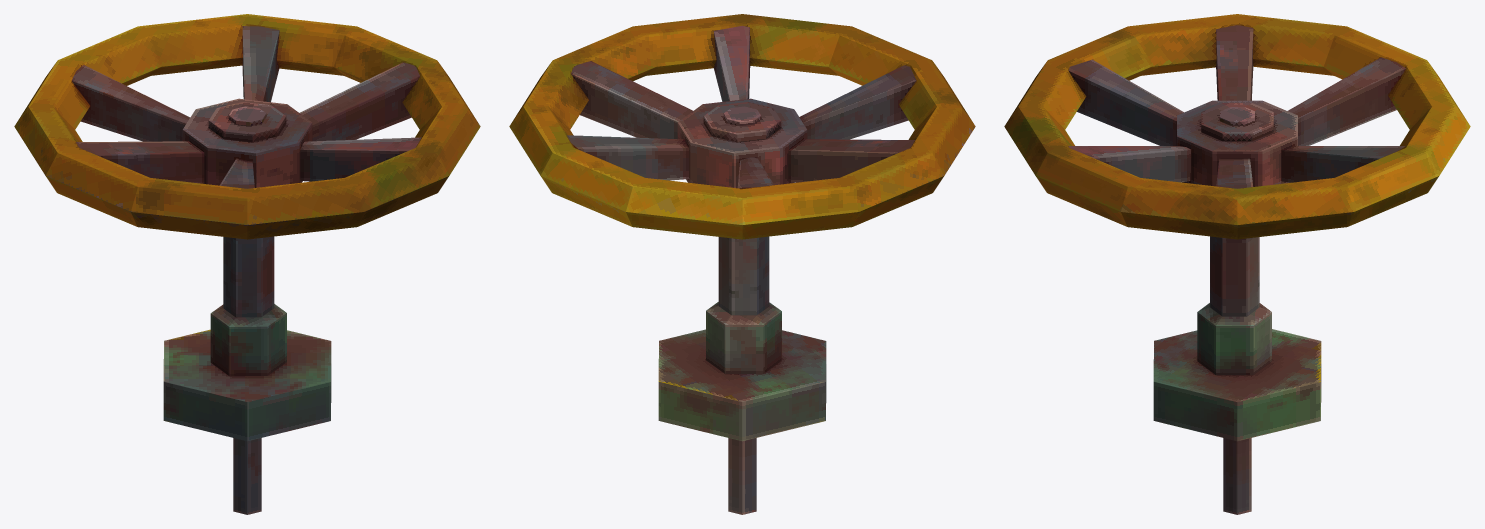
The model's file is item_wheelhandle_big.glb.
The picture shows the model from 3 angles, left to right: view 1: azimuth 30°, elevation 25°; view 2: azimuth 150°, elevation 25°; view 3: azimuth 270°, elevation 25°; orthographic projection.
Visible parts, largest first — view 1: Valve_low; view 2: Valve_low; view 3: Valve_low.
Part boxes in pixels (bbox=[...]): Valve_low: bbox=[14, 14, 480, 514]; Valve_low: bbox=[509, 14, 975, 514]; Valve_low: bbox=[1004, 14, 1470, 514].
Bounding box in the file's own units: 0.971 × 0.9221 × 0.971.
1 material, 1 textured.
